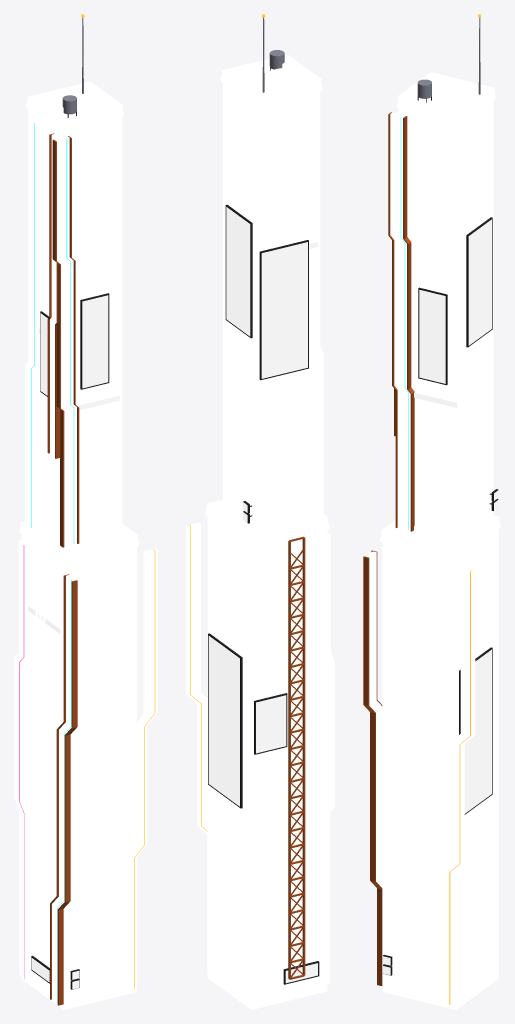
File: k_tower_j.glb
The picture shows the model from 3 angles, left to right: view 1: azimuth 30°, elevation 25°; view 2: azimuth 210°, elevation 25°; view 3: azimuth 330°, elevation 25°; orthographic projection. The views are drawn at different scales.
Parts seen in each view (by area): view 1: kit_dark, kit_grey, steel_orange, screen_atlas, kit_hex, neon_cyan, metal_dark, neon_amber, neon_magenta, kit_mid, metal_light; view 2: kit_dark, screen_atlas, kit_grey, steel_orange, metal_dark, kit_mid, metal_light; view 3: kit_dark, kit_grey, screen_atlas, steel_orange, kit_hex, metal_dark, neon_amber, neon_cyan, kit_mid, metal_light.
Part boxes in pixels (x1=…): kit_dark: x1=21, y1=89, x2=136, y2=1009; kit_grey: x1=14, y1=81, x2=157, y2=1002; steel_orange: x1=47, y1=133, x2=79, y2=1005; screen_atlas: x1=28, y1=295, x2=119, y2=989; kit_hex: x1=89, y1=757, x2=107, y2=920; neon_cyan: x1=31, y1=123, x2=74, y2=1003; metal_dark: x1=31, y1=111, x2=109, y2=989; neon_amber: x1=81, y1=14, x2=155, y2=988; neon_magenta: x1=19, y1=545, x2=24, y2=978; kit_mid: x1=52, y1=95, x2=106, y2=547; metal_light: x1=62, y1=17, x2=83, y2=114; kit_dark: x1=207, y1=65, x2=327, y2=1009; screen_atlas: x1=208, y1=207, x2=317, y2=983; kit_grey: x1=186, y1=54, x2=334, y2=984; steel_orange: x1=288, y1=536, x2=305, y2=979; metal_dark: x1=208, y1=68, x2=319, y2=984; kit_mid: x1=238, y1=60, x2=295, y2=86; metal_light: x1=262, y1=17, x2=284, y2=92; kit_dark: x1=382, y1=80, x2=498, y2=1009; kit_grey: x1=366, y1=72, x2=500, y2=1005; screen_atlas: x1=383, y1=219, x2=498, y2=975; steel_orange: x1=363, y1=112, x2=414, y2=985; kit_hex: x1=404, y1=752, x2=422, y2=917; metal_dark: x1=383, y1=95, x2=498, y2=975; neon_amber: x1=449, y1=14, x2=481, y2=1004; neon_cyan: x1=400, y1=117, x2=408, y2=530; kit_mid: x1=413, y1=83, x2=458, y2=538; metal_light: x1=417, y1=17, x2=480, y2=98.
Size of the model in its own units: 18.63 by 175 by 19.78.
